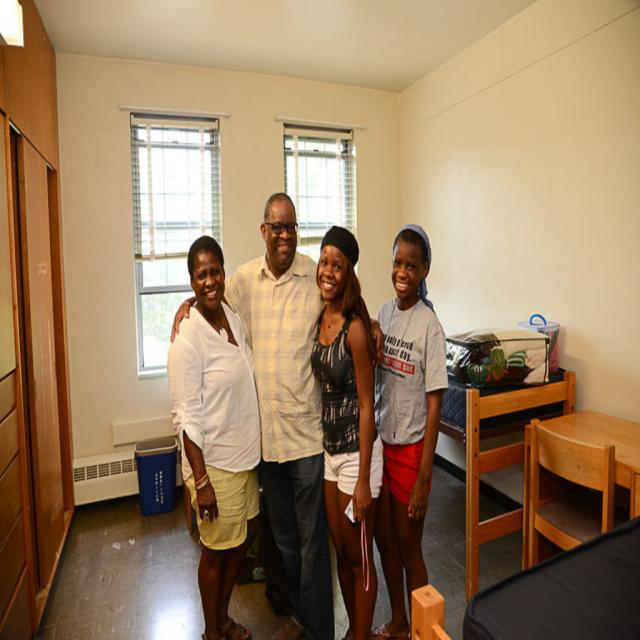desk: (521, 411, 639, 566)
person: (224, 194, 333, 636), (168, 234, 262, 636), (371, 223, 448, 636), (308, 223, 379, 637)
